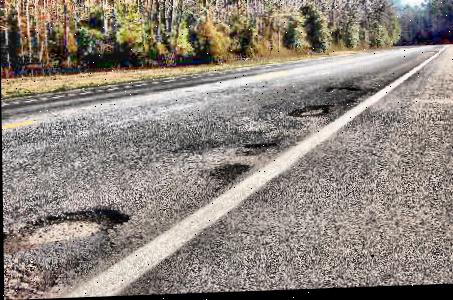pothole: (17, 206, 129, 247), (206, 163, 249, 185), (285, 105, 332, 122), (240, 142, 278, 157), (323, 87, 359, 97)
